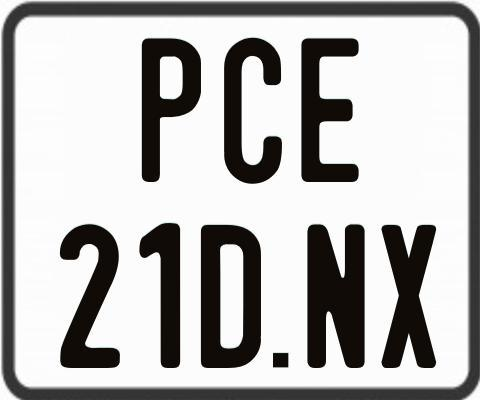1: (137, 221, 183, 372)
2: (59, 224, 122, 371)
C: (224, 37, 286, 186)
D: (200, 222, 261, 370)
E: (298, 38, 359, 185)
N: (304, 222, 365, 372)
P: (141, 37, 202, 186)
X: (379, 222, 439, 371)
